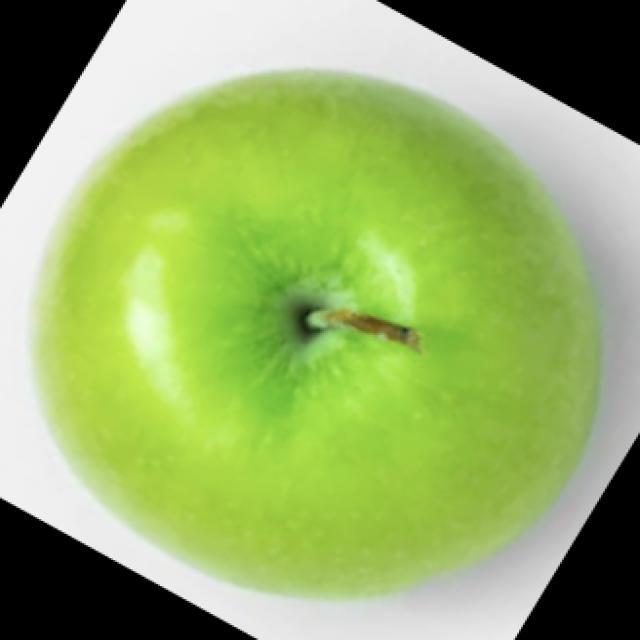Fresh Apple: (70, 82, 585, 598)
